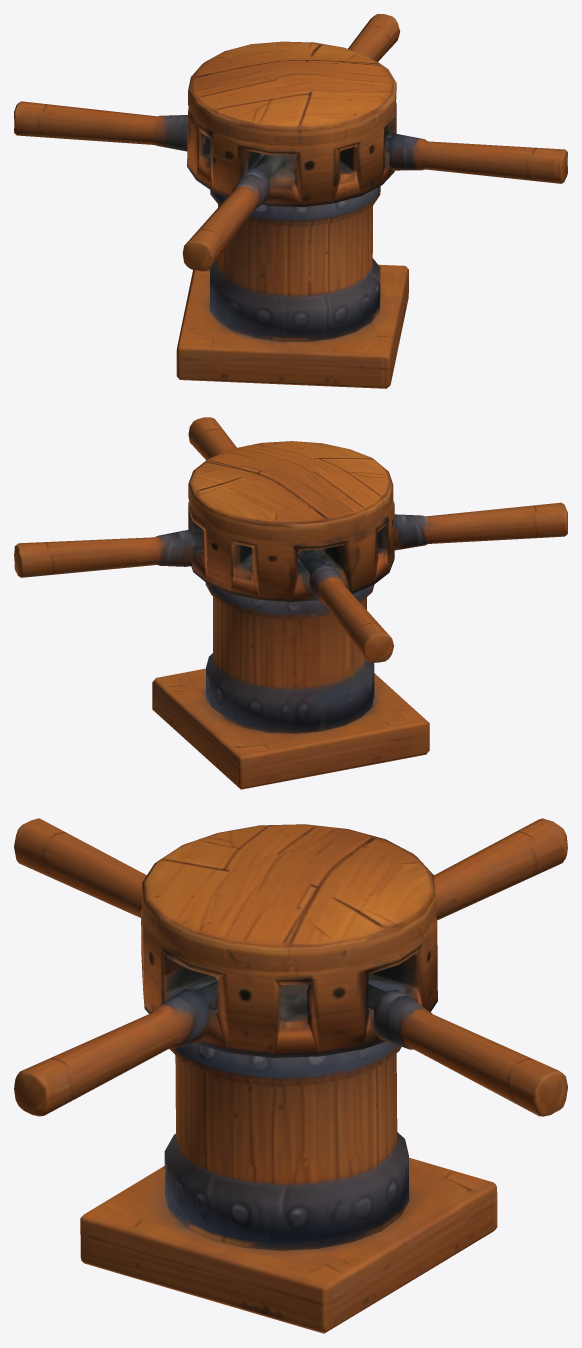
File: capstan.glb
3 renders of one model, top to bottom at view 1: azimuth 30°, elevation 25°; view 2: azimuth 150°, elevation 25°; view 3: azimuth 270°, elevation 25°, orthographic. The views are drawn at different scales.
Visible parts, largest first — view 1: capstan; view 2: capstan; view 3: capstan.
Boxes of the visible parts, x1,y1,x2,y2 form: capstan: (14,14,567,388); capstan: (14,417,567,789); capstan: (14,818,567,1333).
Size of the model in its own units: 1.64 by 1.1 by 1.43.
Materials: 1 (1 with a texture image).
